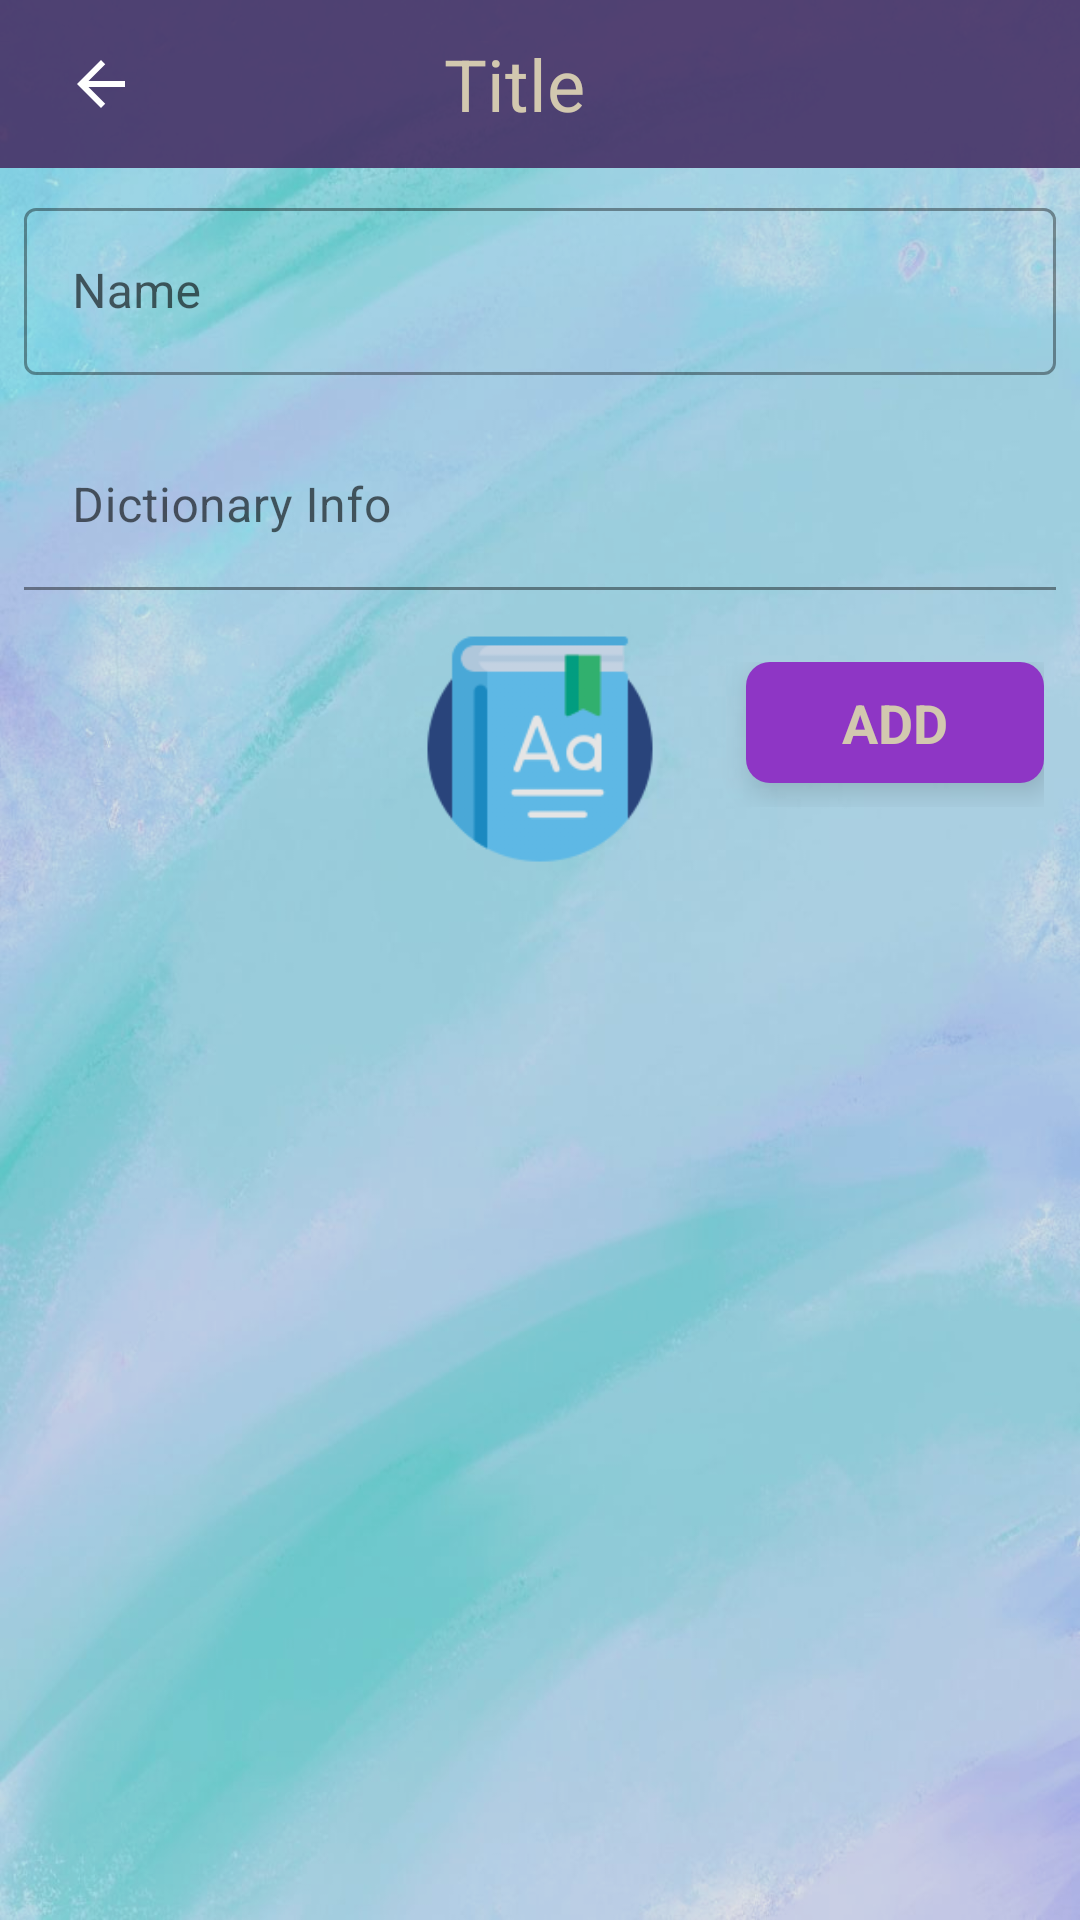

Where to tap for icons on this 1080w x 1920h app screen, as (x,y):
day night back: (101,84)
